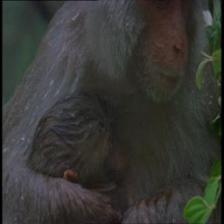monkey: (135, 1, 204, 114), (84, 94, 132, 196)
